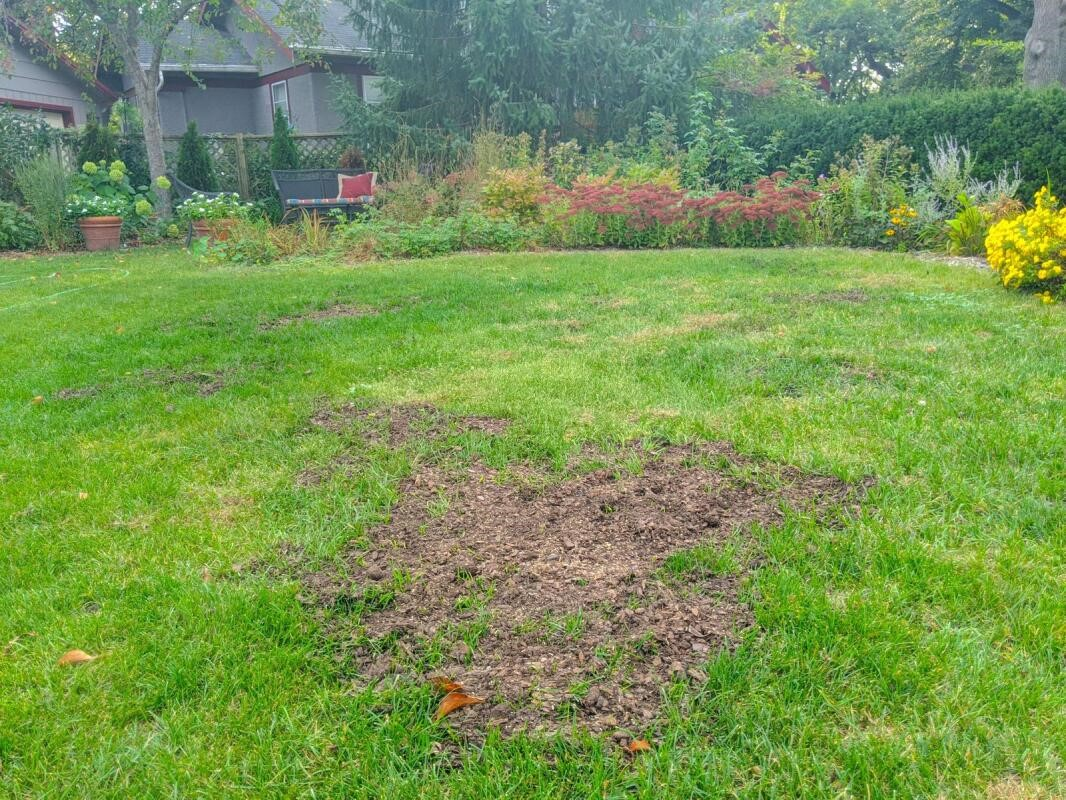dirt: (362, 453, 741, 727)
grass: (3, 258, 352, 790), (358, 259, 1054, 446), (751, 461, 1054, 793)
